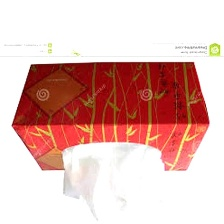book: (6, 56, 214, 177)
tissue: (56, 137, 175, 224)
